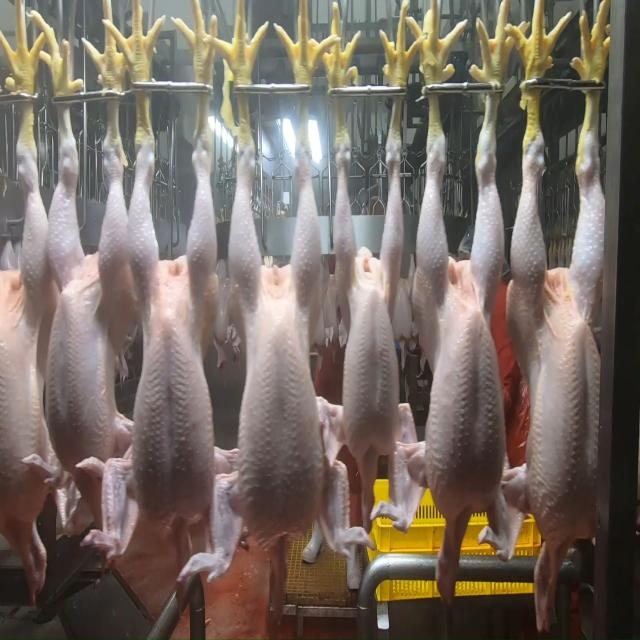chicken: (221, 161, 332, 553), (410, 109, 506, 536), (127, 156, 231, 542), (518, 126, 608, 553), (44, 132, 136, 464), (326, 146, 402, 458), (0, 136, 48, 547)
